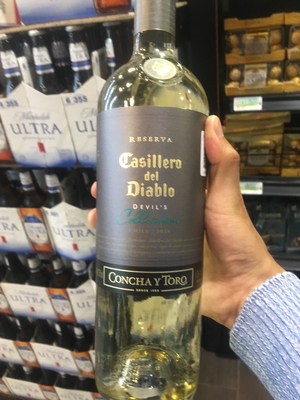casillero del diablo devils collection verde: (80, 10, 221, 398)
